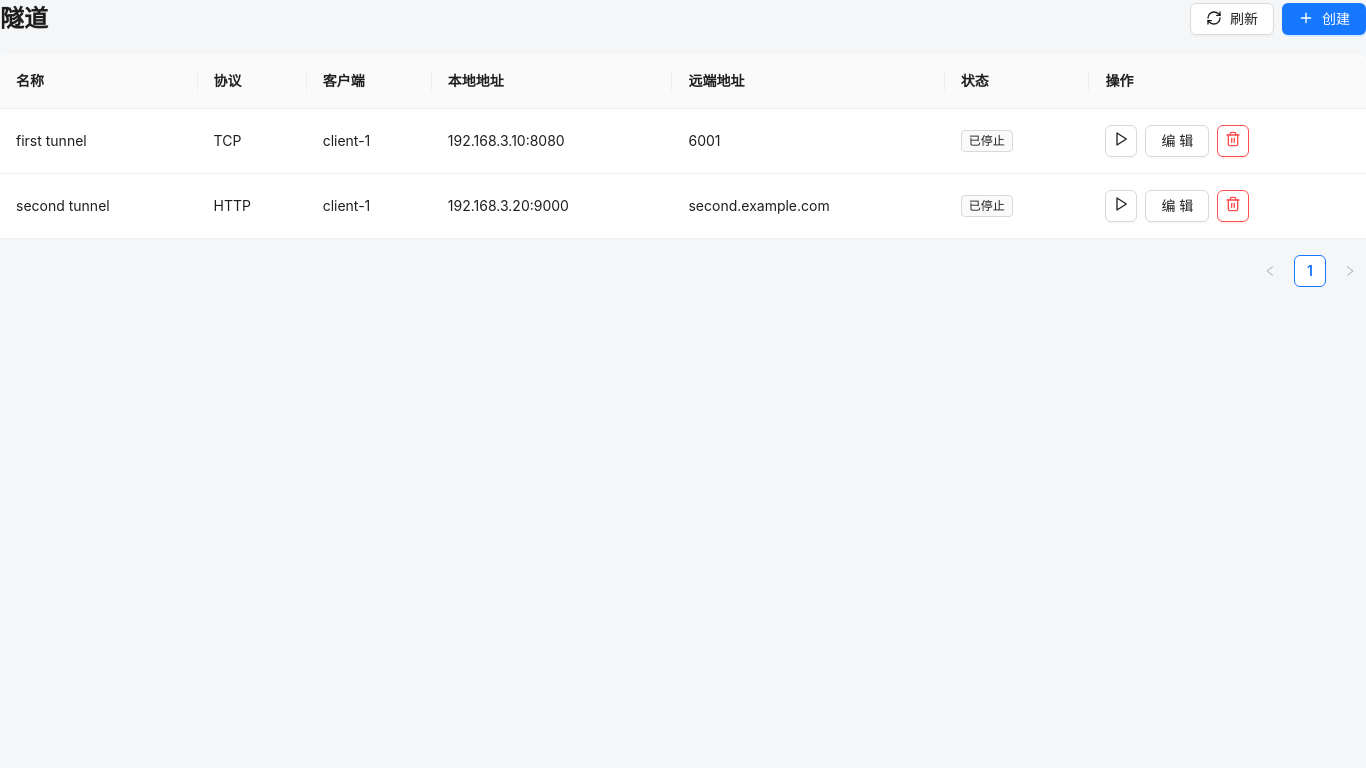
Test: dashboard form state › loads the selected tunnel and clears the previous tunnel when creating
This screenshot has width=1366, height=768.
Later steps or results of the test are not shown.
Click the button "编 辑" in the row of "first tunnel".
click(1177, 141)  # box x1=1145 y1=125 x2=1209 y2=157
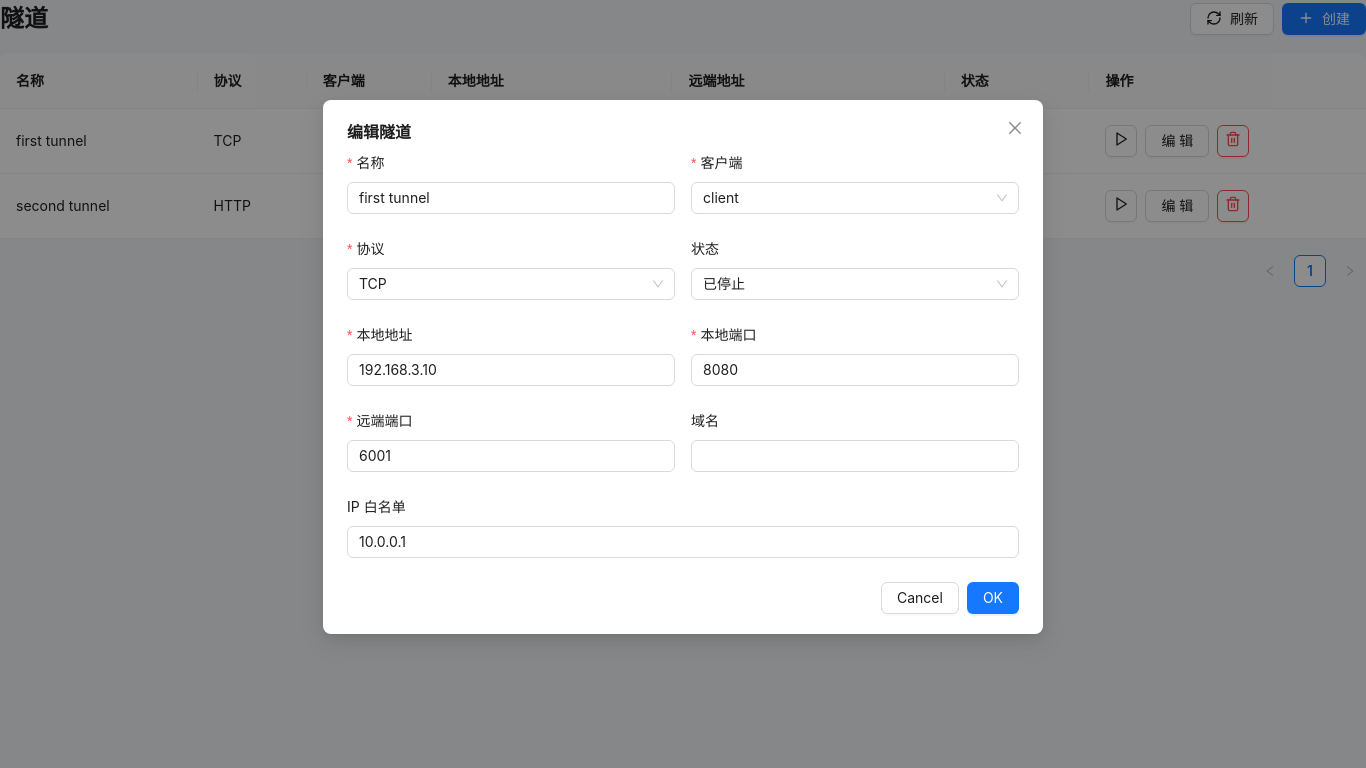
Check: the cell "first tunnel" is shown, box x1=0 y1=109 x2=198 y2=174
Check: the button named "Close" is shown
Click the button named "Close".
click(1015, 128)  # box x1=999 y1=112 x2=1031 y2=144
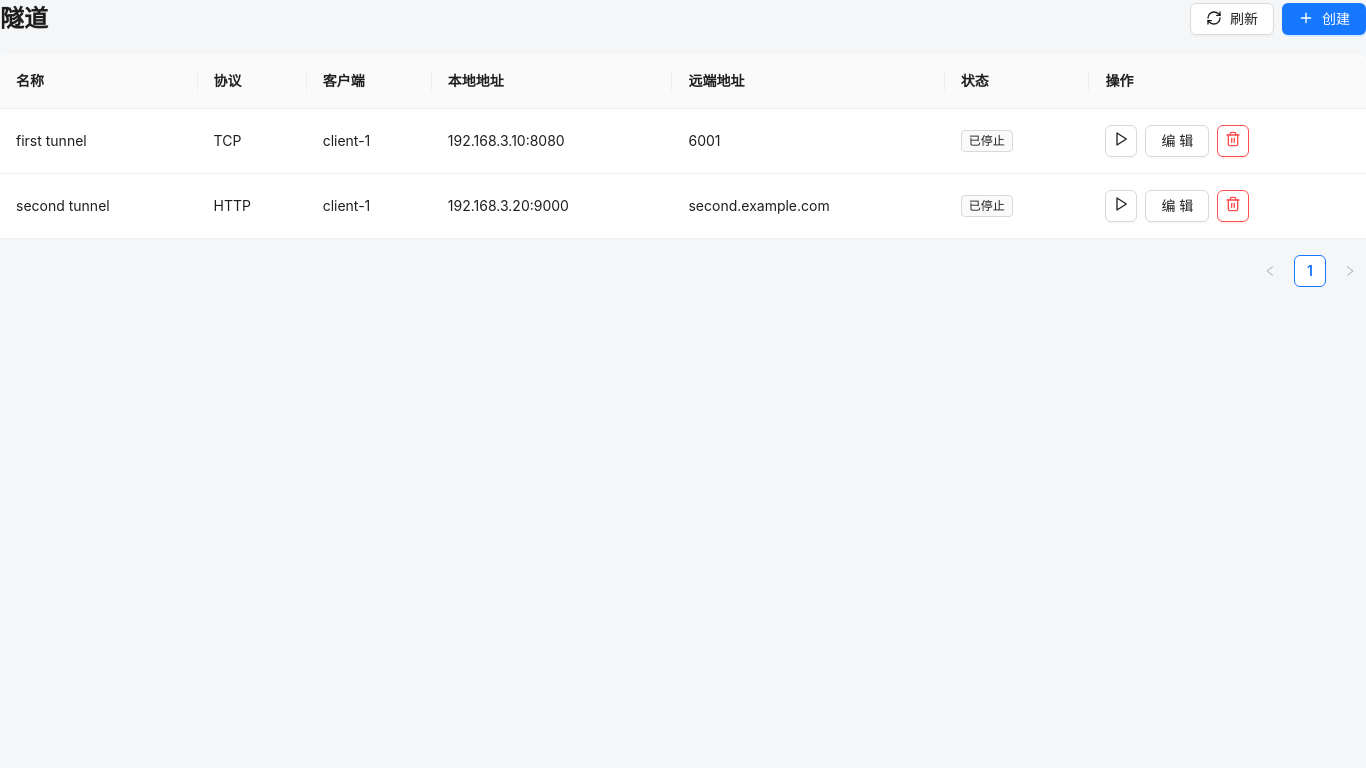
Click the button "编 辑" in the row of "second tunnel".
click(1177, 206)  # box x1=1145 y1=190 x2=1209 y2=222
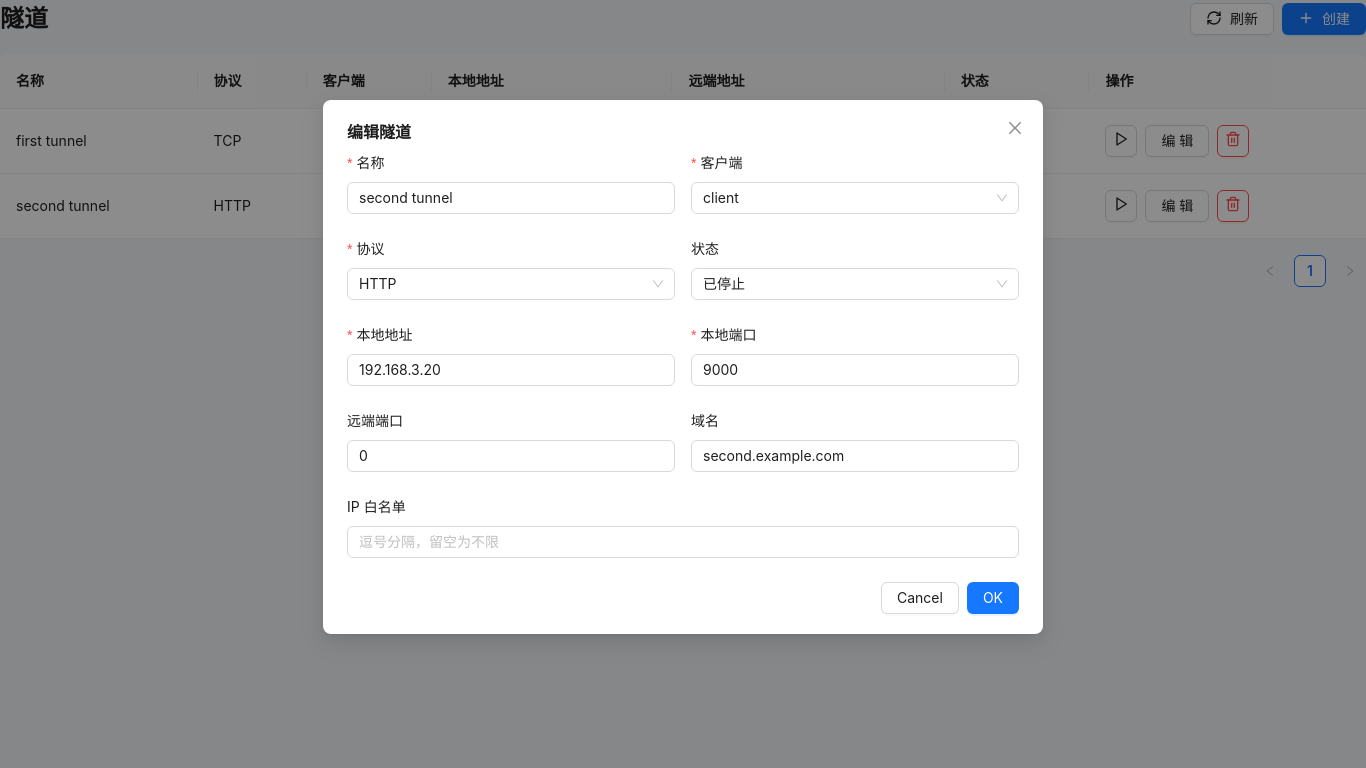
Check: the cell "second tunnel" is shown, box x1=0 y1=174 x2=198 y2=239
Check: the button named "Close" is shown, box x1=999 y1=112 x2=1031 y2=144
